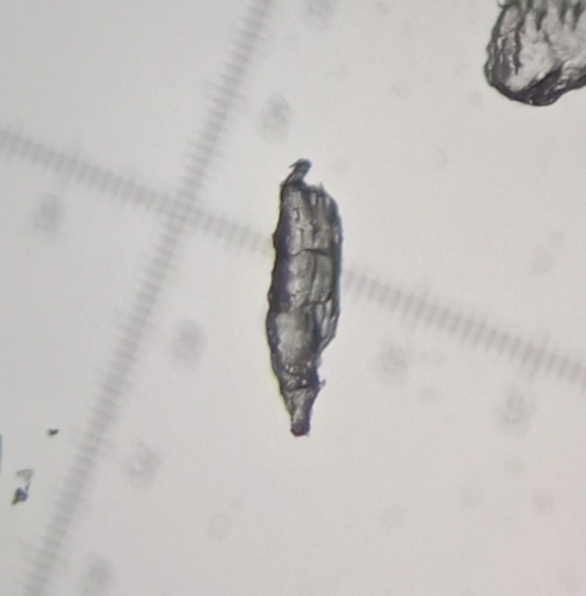microplastic: (266, 159, 339, 442), (483, 1, 586, 116)
